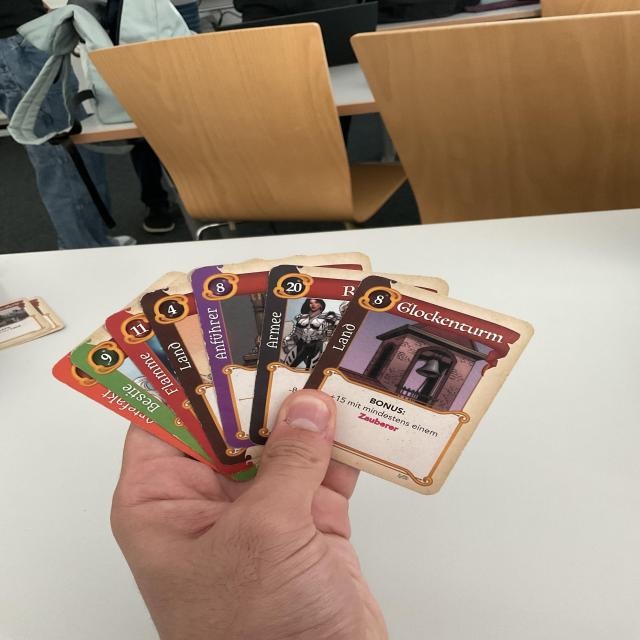Clock Tower: (303, 273, 537, 498)
Earth Elemental: (136, 282, 229, 463)
King: (191, 261, 269, 447)
Knights: (248, 263, 367, 445)
Lightning: (102, 305, 220, 467)
Rune Of Protection: (50, 354, 215, 469)
Unicorn: (70, 325, 214, 464)
